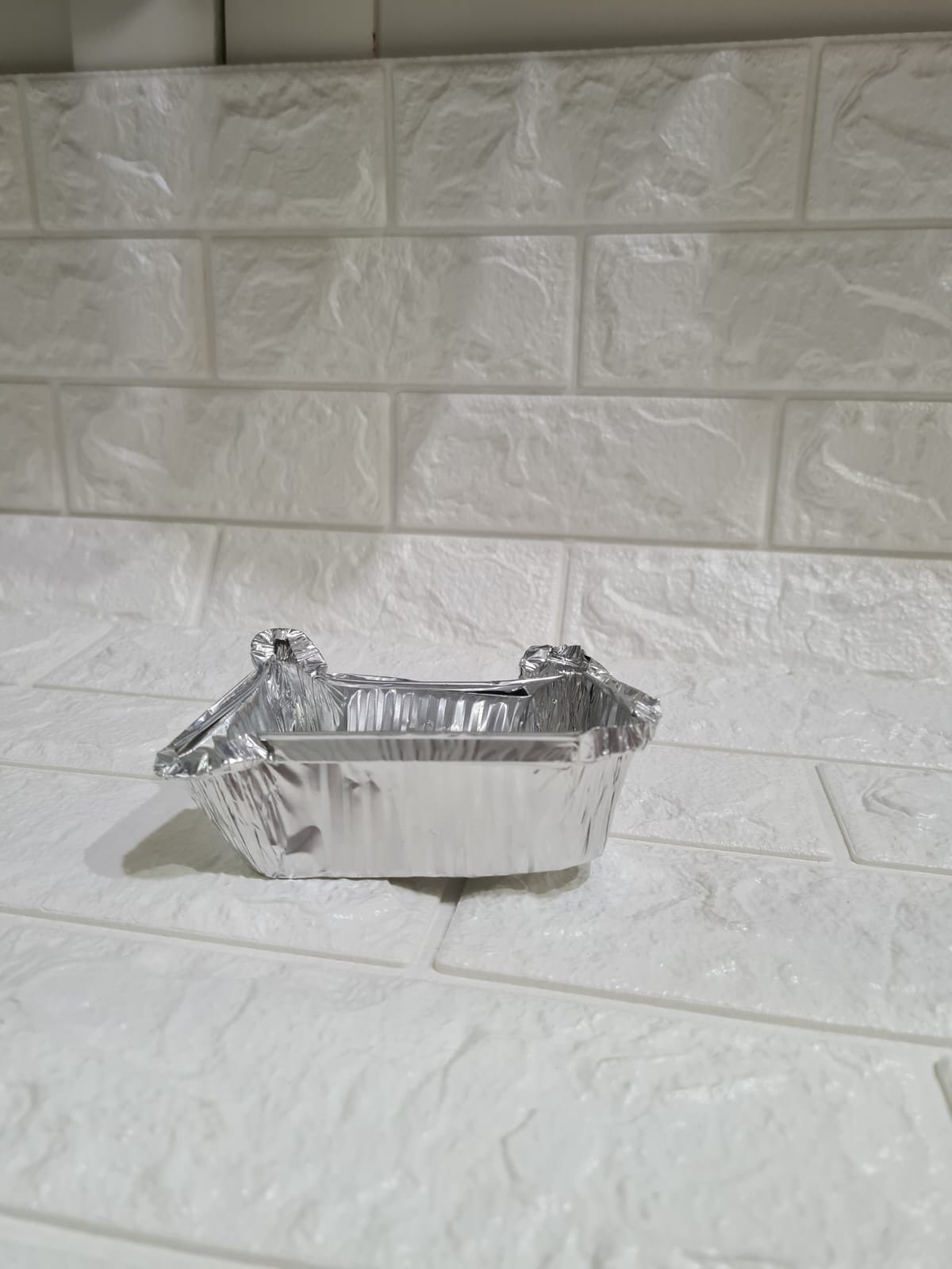Metal: (151, 619, 667, 907)
